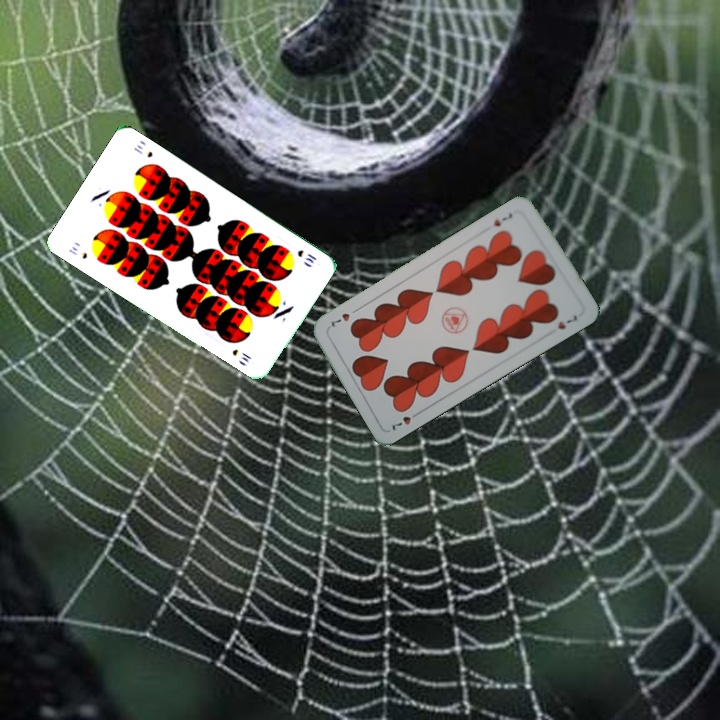H7: (386, 407, 423, 433), (490, 209, 515, 229)
S10: (293, 246, 319, 266), (65, 242, 90, 261)
